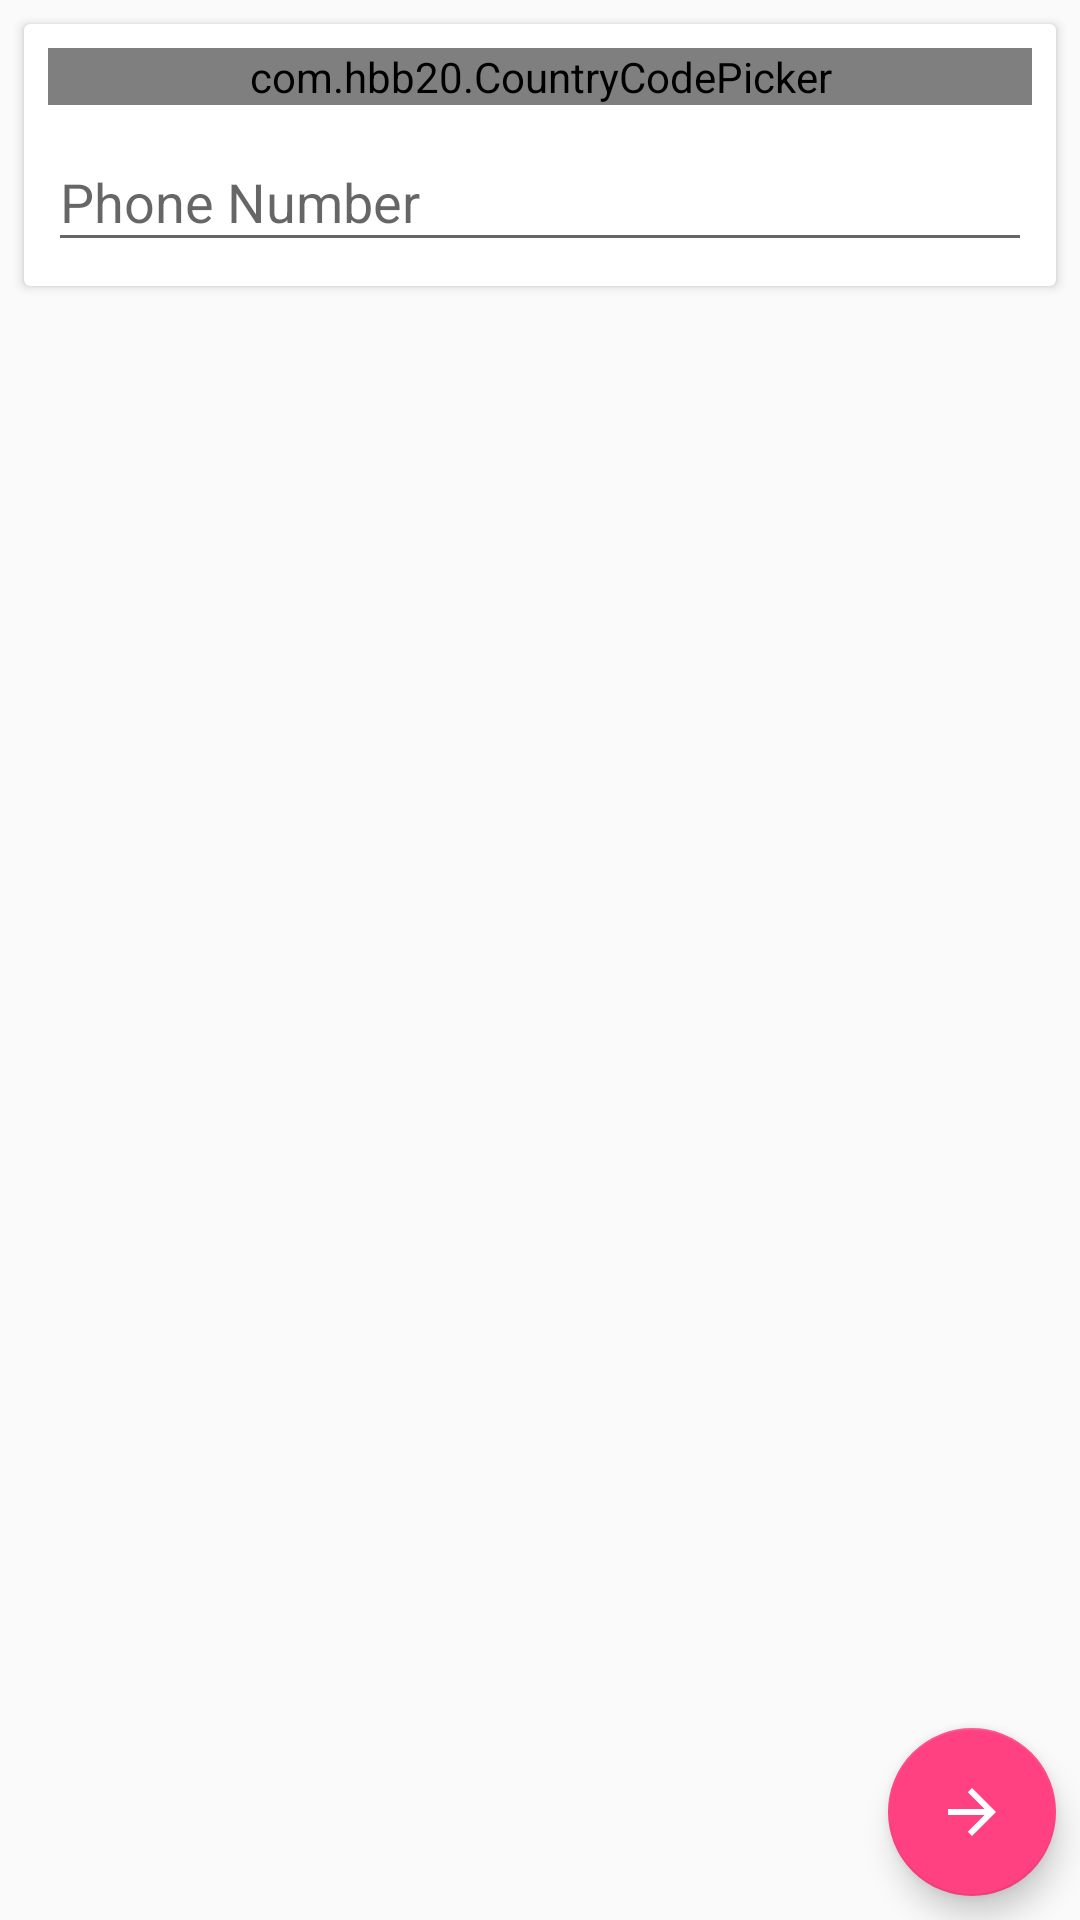

Icons on this 1080w x 1920h Android screen, each with its box as box(x1, y1, x2, y2):
arrow forward: box(888, 1728, 1056, 1896)
